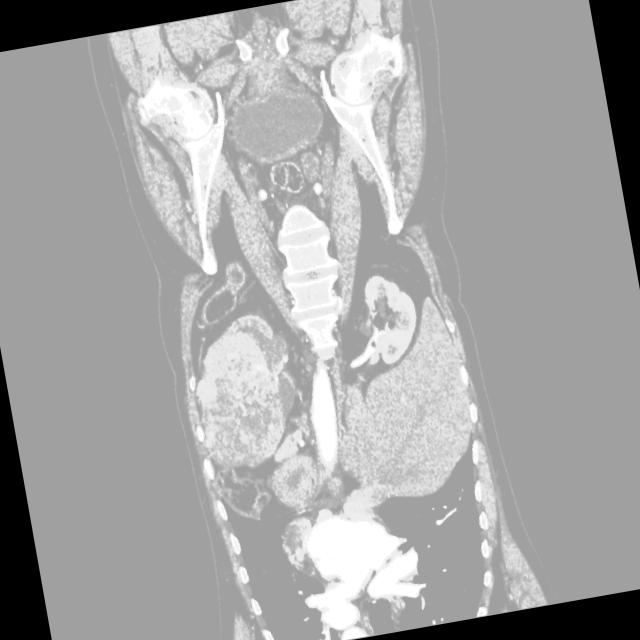TUMOR: (114, 253, 564, 527)
